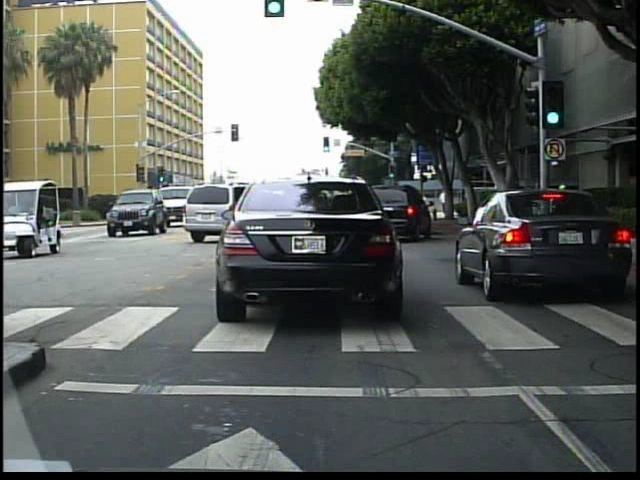person: (536, 174, 556, 231), (435, 186, 449, 218)
